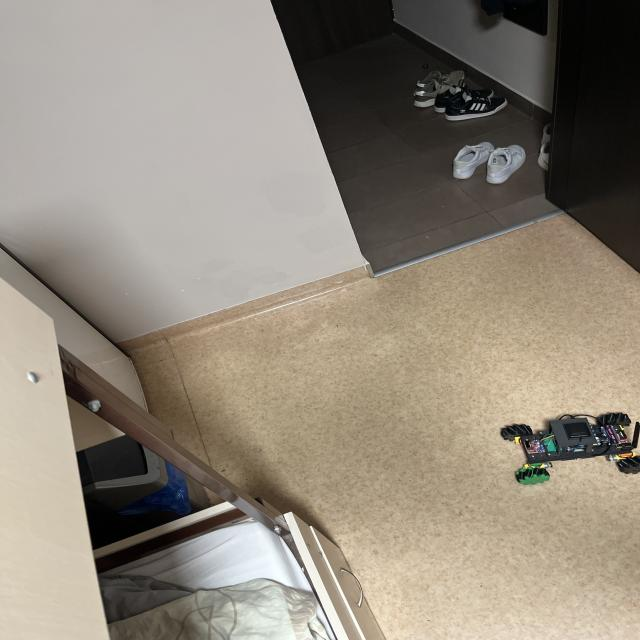robot: (500, 413, 640, 485)
